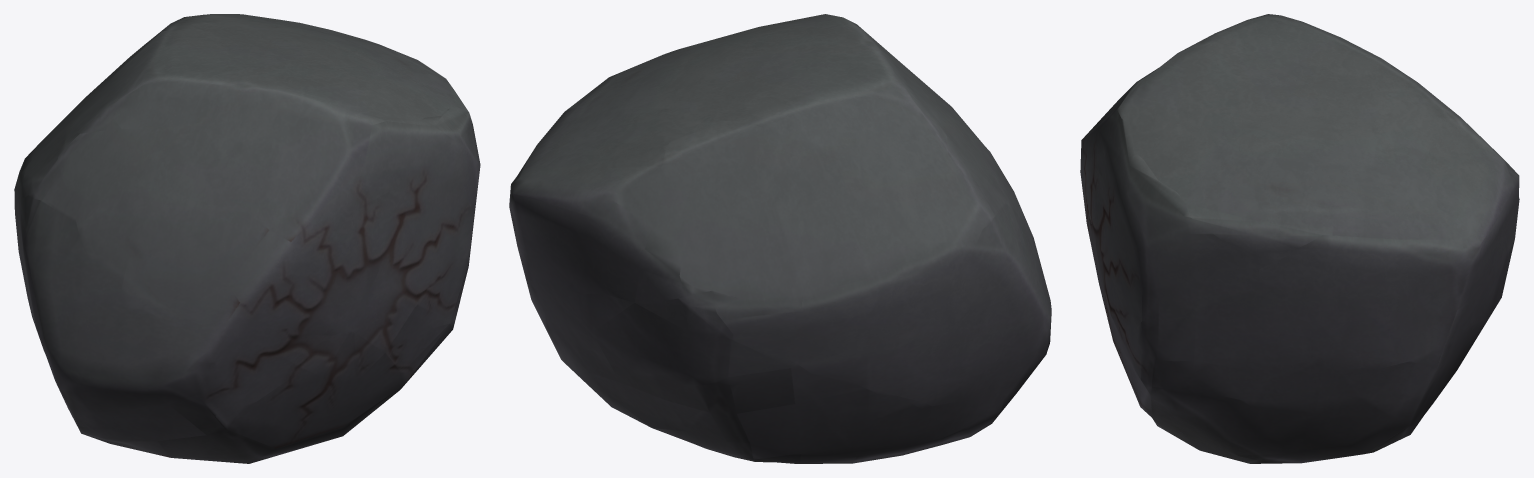
File: Cracked_Rock_Cracked.fbx
The picture shows the model from 3 angles, left to right: view 1: azimuth 30°, elevation 25°; view 2: azimuth 150°, elevation 25°; view 3: azimuth 270°, elevation 25°; orthographic projection.
Parts seen in each view (by area): view 1: shard10, shard1, shard4, shard7, shard3, shard8, shard5, shard2, shard9, shard6; view 2: shard4, shard2, shard1, shard6, shard3, shard5, shard9, shard10, shard8; view 3: shard6, shard1, shard7, shard9, shard5, shard10, shard2, shard3.
Boxes of the visible parts, x1,y1,x2,y2 form: shard10: (58, 118, 389, 363); shard1: (74, 23, 467, 133); shard4: (14, 150, 255, 431); shard7: (362, 108, 480, 326); shard3: (75, 347, 412, 463); shard8: (200, 323, 368, 429); shard5: (304, 281, 464, 369); shard2: (23, 15, 250, 218); shard9: (376, 318, 455, 376); shard6: (197, 14, 471, 283); shard4: (713, 202, 1051, 411); shard2: (661, 113, 1003, 296); shard1: (570, 14, 948, 174); shard6: (509, 108, 687, 304); shard3: (652, 376, 1002, 463); shard5: (526, 281, 828, 386); shard9: (545, 327, 737, 427); shard10: (868, 34, 1026, 221); shard8: (678, 290, 734, 341); shard6: (1129, 113, 1519, 374); shard1: (1117, 14, 1393, 261); shard7: (1095, 117, 1275, 330); shard9: (1110, 328, 1472, 463); shard5: (1101, 202, 1519, 403); shard10: (1080, 86, 1132, 289); shard2: (1381, 65, 1469, 125); shard3: (1125, 371, 1268, 463).
Size of the model in its own units: 604 by 500 by 537.
